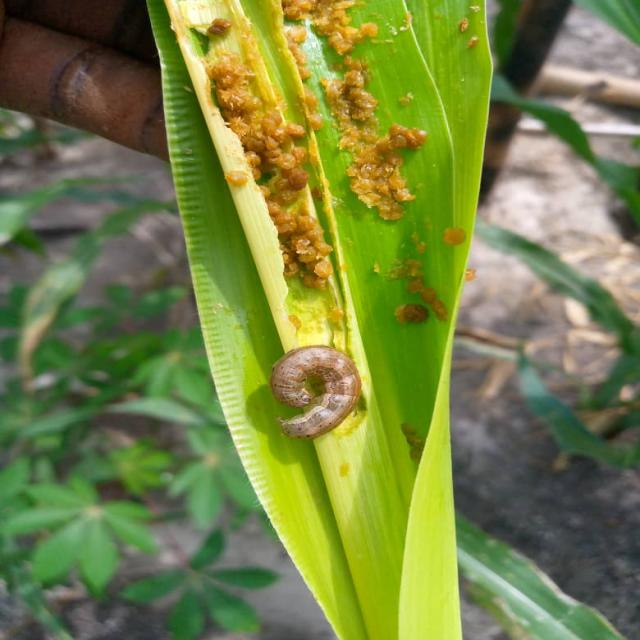yellow-stem-borer-larva: (243, 328, 390, 474)
